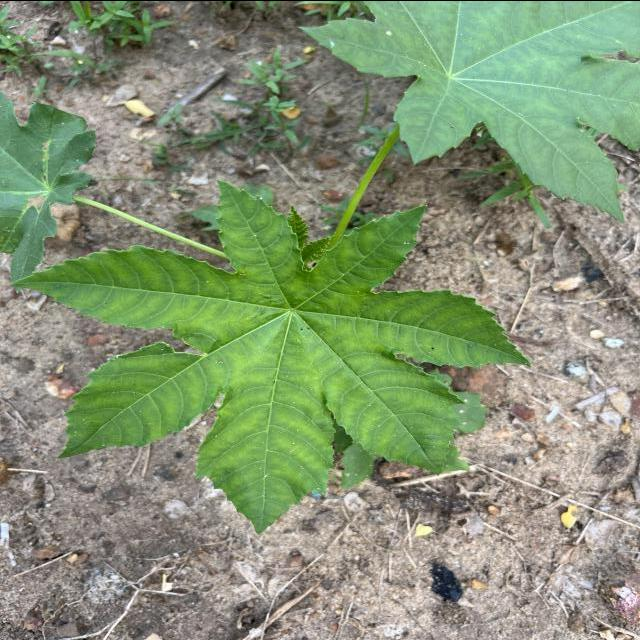Ricinus communis linn: (5, 176, 542, 536)
